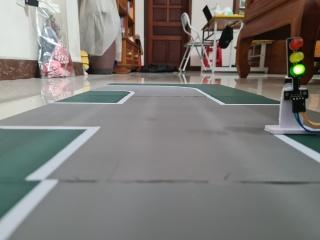green: (279, 33, 309, 92)
